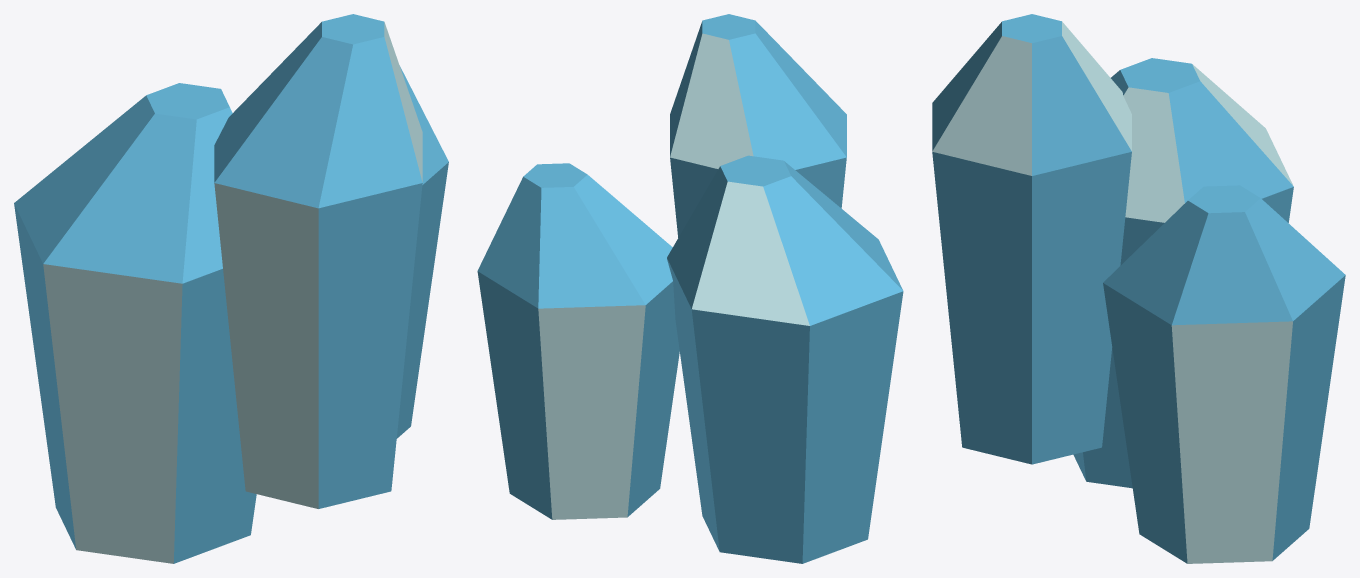
3 renders of one model, left to right at view 1: azimuth 30°, elevation 25°; view 2: azimuth 150°, elevation 25°; view 3: azimuth 270°, elevation 25°, orthographic. The views are drawn at different scales.
Parts seen in each view (by area): view 1: Ice_Fragment; view 2: Ice_Fragment; view 3: Ice_Fragment.
Part boxes in pixels (bbox=[...]): Ice_Fragment: bbox=[14, 14, 448, 563]; Ice_Fragment: bbox=[477, 14, 903, 563]; Ice_Fragment: bbox=[932, 14, 1345, 563].
Bounding box in the file's own units: 0.7369 × 0.84 × 0.6453.
